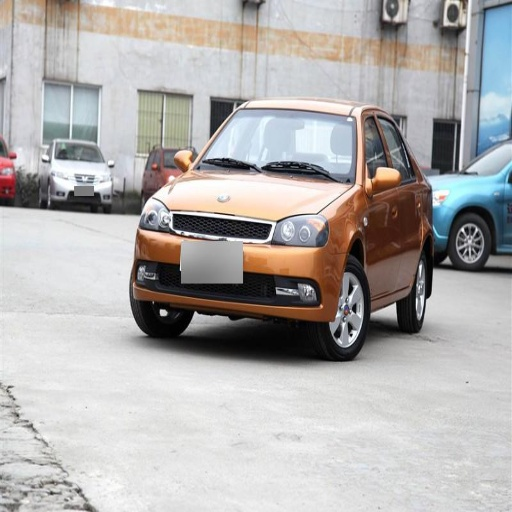back_left_door: (378, 113, 419, 287)
front_bumper: (131, 211, 344, 316)
front_glass: (192, 109, 355, 182)
front_left_door: (362, 112, 398, 296)
trunk: (430, 179, 474, 237)
